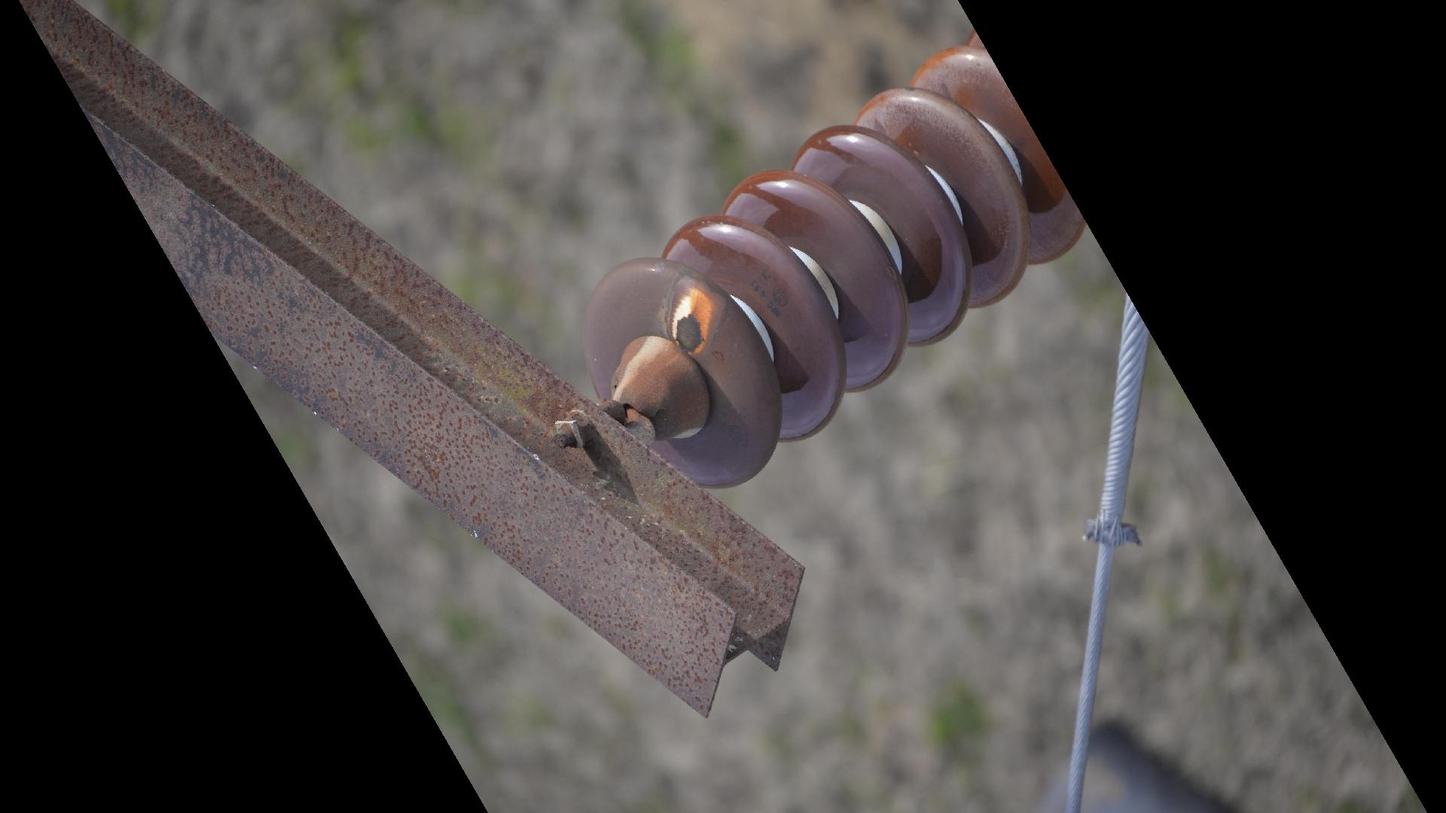insulator: (572, 24, 1094, 496)
insulator_flashover: (662, 273, 730, 357)
